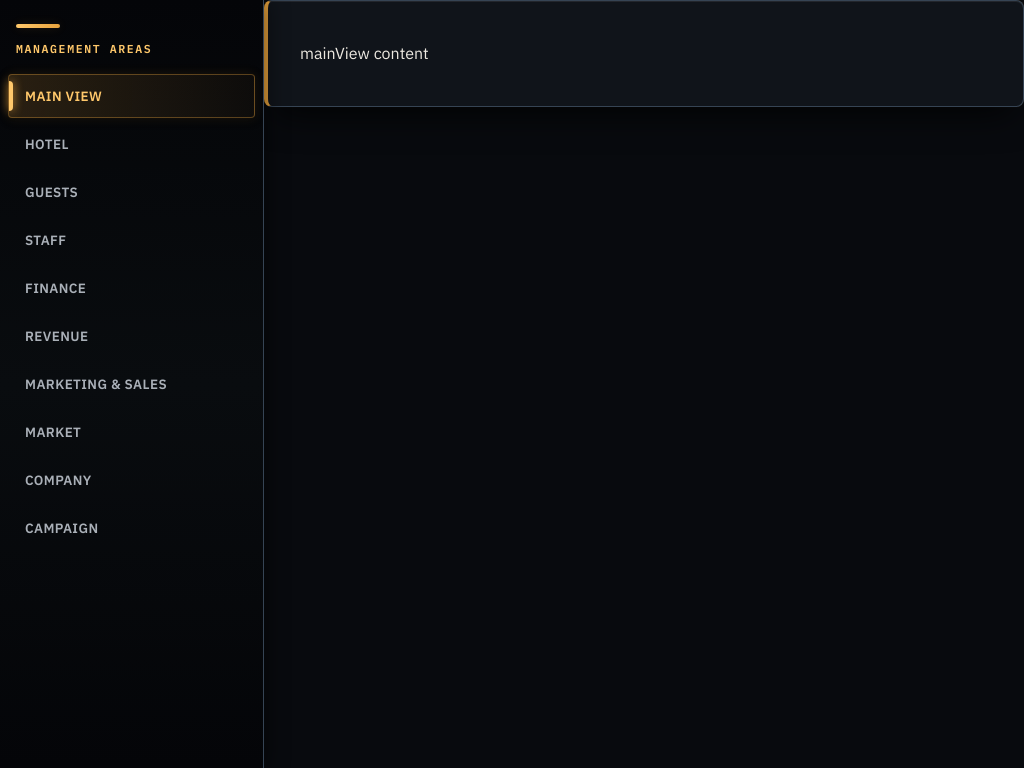
ManagementShell › mounts only the selected area's assigned content
Check: the number of panels is 1, box [264,0,1023,107]
Check: the text "mainView content" is shown, box [300,43,429,63]
What coordinates should you click on to do the following:
click the tab "Campaign"
I would click on:
 (132, 528)
Its box is [8,506,255,550].
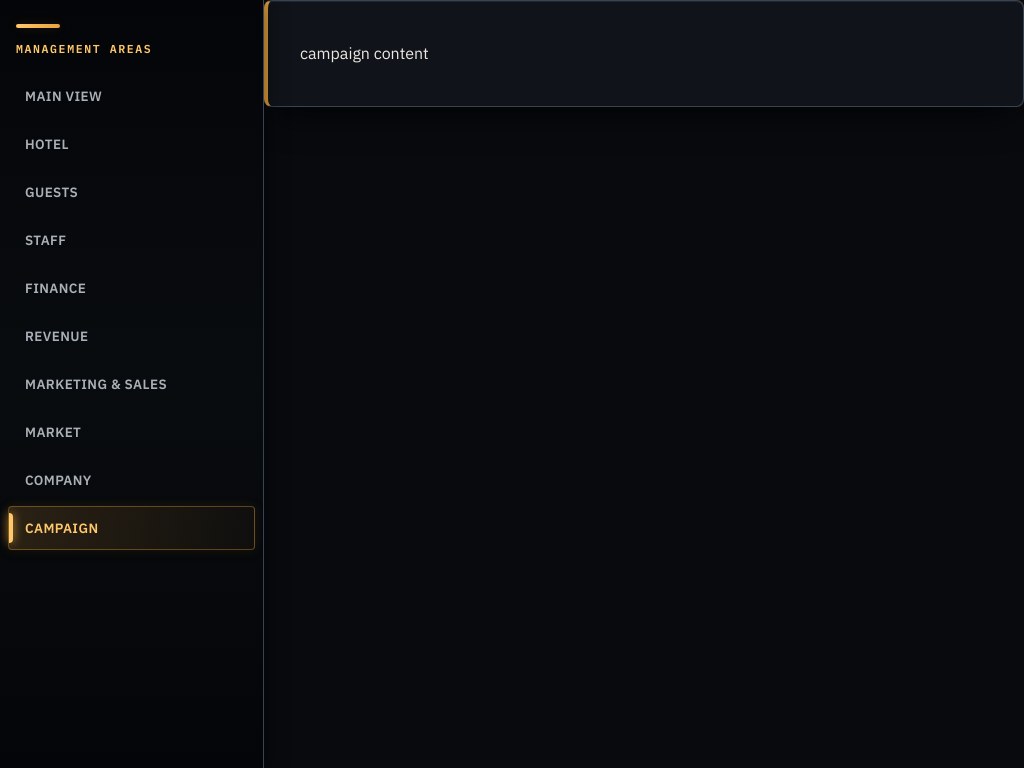
Check: the text with test id "mainView-content" is gone
